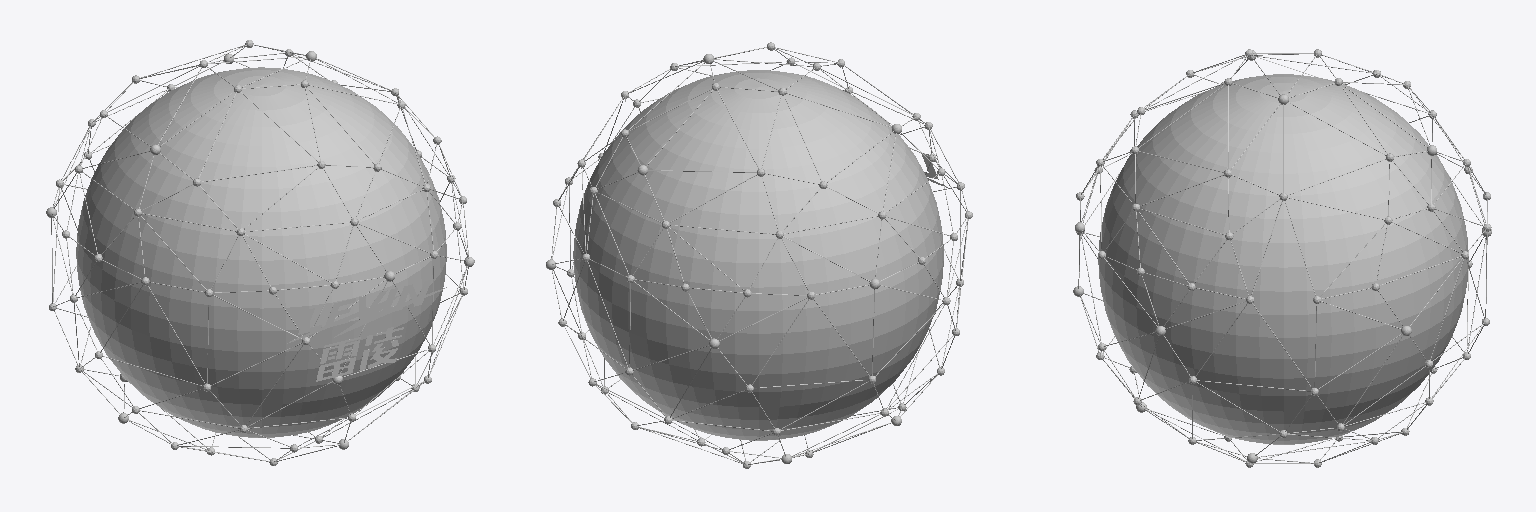
The model's file is ball1.obj.
3 views of the same model, side by side, from view 1: azimuth 30°, elevation 25°; view 2: azimuth 150°, elevation 25°; view 3: azimuth 270°, elevation 25° (orthographic).
Parts seen in each view (by area): view 1: Sphere001, GeoSphere001, Shape1, GeoSphere002; view 2: Sphere001, GeoSphere001, GeoSphere002; view 3: Sphere001, GeoSphere001, GeoSphere002.
Part boxes in pixels (x1,y1,x2,y2): Sphere001: (76, 67, 446, 437); GeoSphere001: (49, 40, 468, 465); Shape1: (287, 280, 446, 381); GeoSphere002: (46, 51, 474, 449); Sphere001: (573, 70, 943, 440); GeoSphere001: (551, 42, 972, 468); GeoSphere002: (546, 54, 901, 463); Sphere001: (1098, 74, 1468, 444); GeoSphere001: (1076, 49, 1491, 467); GeoSphere002: (1073, 50, 1491, 463).
Bounding box in the file's own units: 19589 × 19338 × 19579.